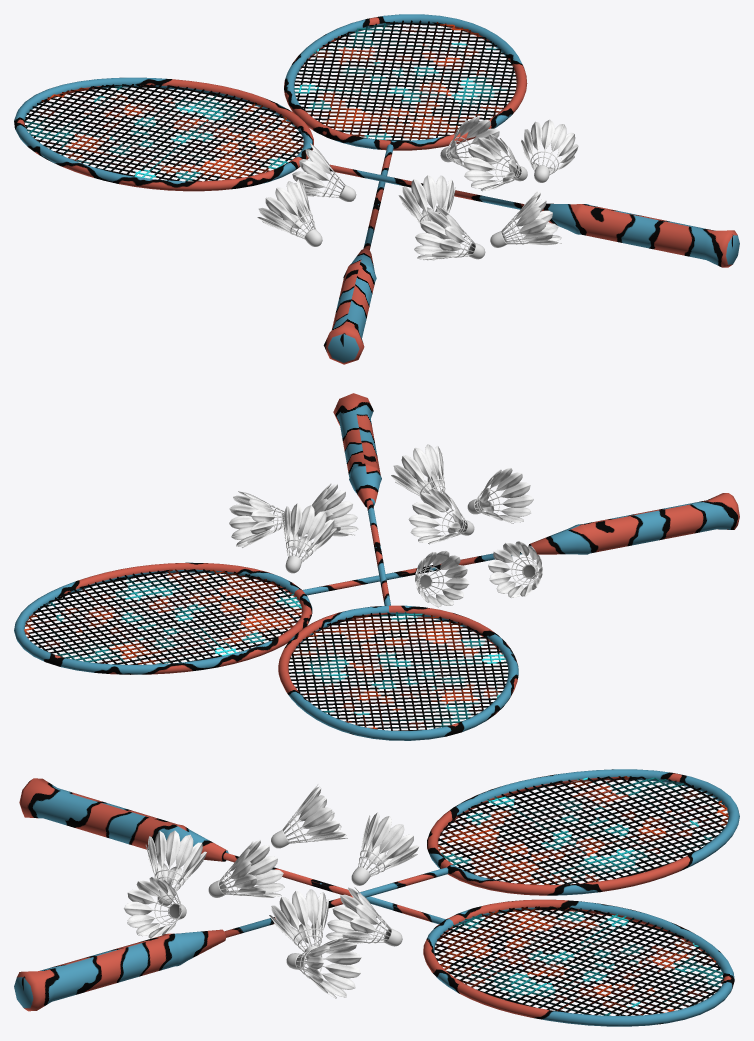
File: volleyball.glb
3 views of the same model, one above another, from view 1: azimuth 30°, elevation 25°; view 2: azimuth 150°, elevation 25°; view 3: azimuth 270°, elevation 25° (orthographic). The views are drawn at different scales.
Visible parts, largest first — view 1: Plane.018, Plane.016, Cube.004, Cube.006, Cube.010, Cube.007, Cube.009, Cube.005, Cube.003, Cube.008; view 2: Plane.016, Plane.018, Cube.008, Cube.004, Cube.005, Cube.006, Cube.003, Cube.009, Cube.007, Cube.010; view 3: Plane.018, Plane.016, Cube.003, Cube.009, Cube.005, Cube.004, Cube.010, Cube.008, Cube.007, Cube.006.
Boxes of the visible parts, left/top/right/bottom form: Plane.018: left=14, top=77, right=739, bottom=267; Plane.016: left=284, top=14, right=527, bottom=364; Cube.004: left=414, top=205, right=485, bottom=260; Cube.006: left=257, top=179, right=322, bottom=246; Cube.010: left=463, top=134, right=527, bottom=191; Cube.007: left=490, top=191, right=561, bottom=247; Cube.009: left=521, top=119, right=578, bottom=182; Cube.005: left=398, top=175, right=455, bottom=239; Cube.003: left=292, top=143, right=356, bottom=201; Cube.008: left=440, top=116, right=502, bottom=171; Plane.016: left=14, top=493, right=739, bottom=674; Plane.018: left=278, top=393, right=518, bottom=740; Cube.008: left=282, top=503, right=336, bottom=573; Cube.004: left=467, top=468, right=533, bottom=523; Cube.005: left=408, top=488, right=474, bottom=544; Cube.006: left=488, top=541, right=542, bottom=597; Cube.003: left=415, top=550, right=468, bottom=607; Cube.009: left=229, top=491, right=291, bottom=547; Cube.007: left=391, top=444, right=449, bottom=512; Cube.010: left=290, top=483, right=358, bottom=536; Plane.018: left=14, top=769, right=739, bottom=1011; Plane.016: left=19, top=778, right=734, bottom=1026; Cube.003: left=351, top=812, right=419, bottom=885; Cube.009: left=286, top=938, right=361, bottom=998; Cube.005: left=208, top=839, right=284, bottom=897; Cube.004: left=145, top=830, right=206, bottom=905; Cube.010: left=269, top=889, right=329, bottom=959; Cube.008: left=326, top=887, right=402, bottom=946; Cube.007: left=124, top=876, right=186, bottom=938; Cube.006: left=271, top=784, right=347, bottom=848.
Size of what is drawn, in the model's own units: 3.07 by 0.4337 by 3.84.
2 materials, 2 textured.
